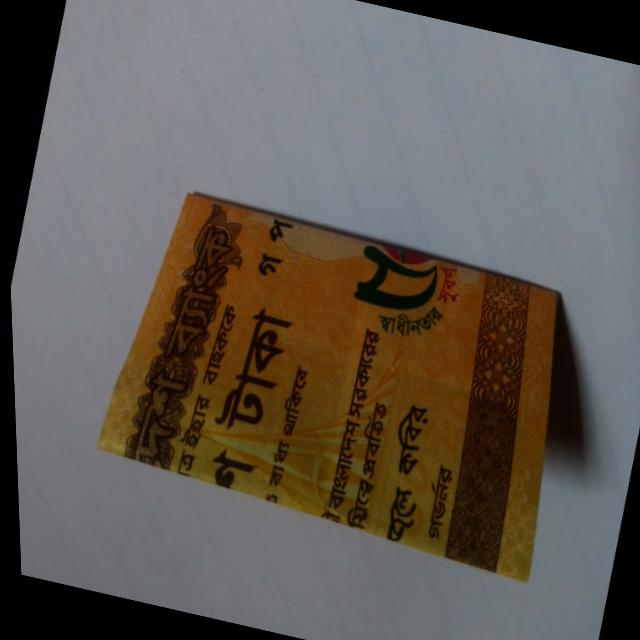Taka: (76, 147, 615, 602)
